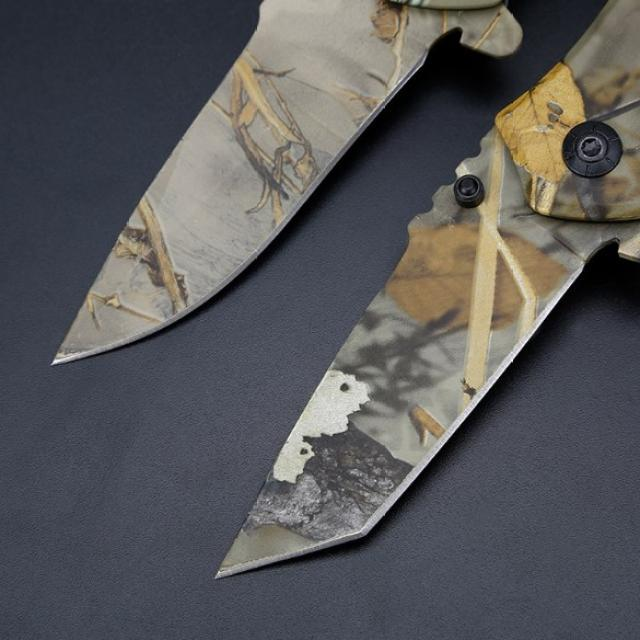Pisau: (210, 0, 636, 585)
